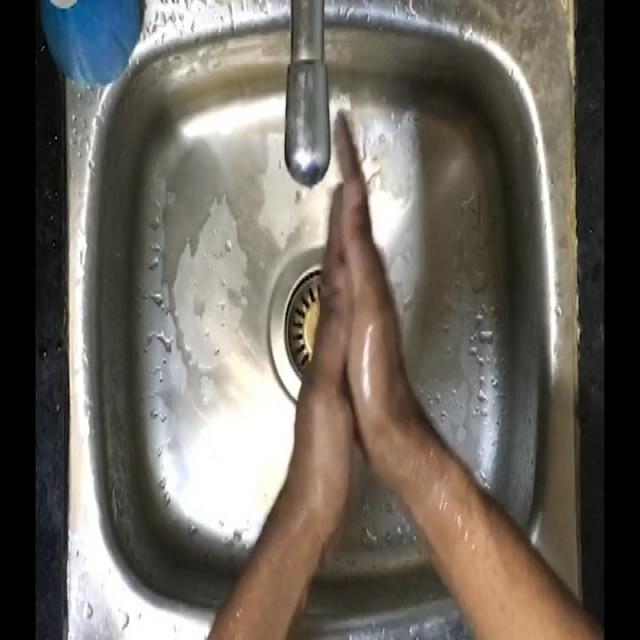step_1: (282, 93, 412, 447)
